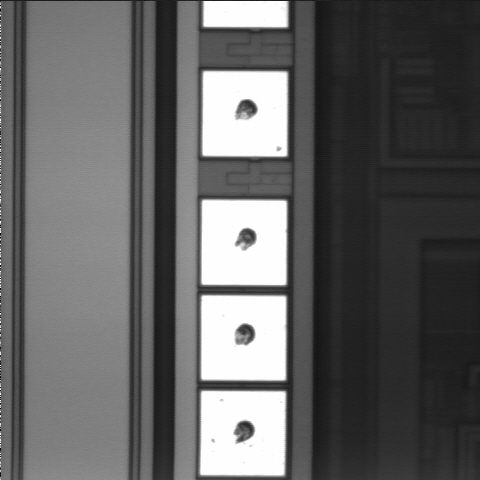pad: (200, 391, 286, 476), (202, 71, 287, 156), (202, 200, 287, 285), (201, 295, 286, 380)
